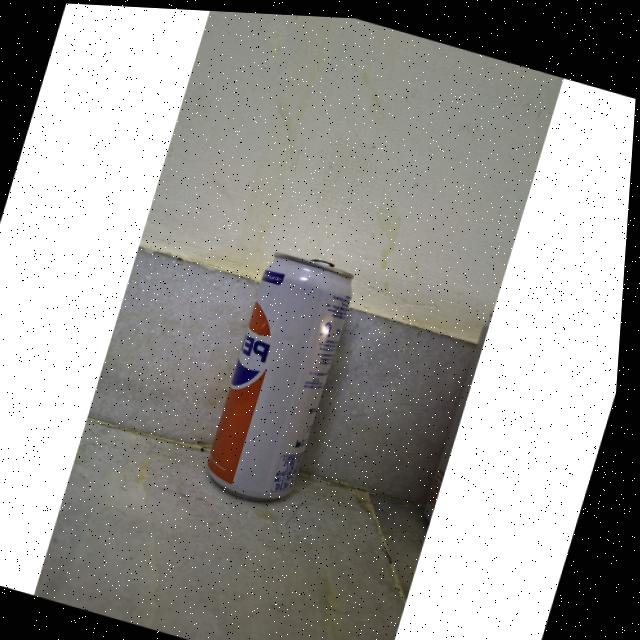Pepsi Retro: (199, 233, 372, 509)
